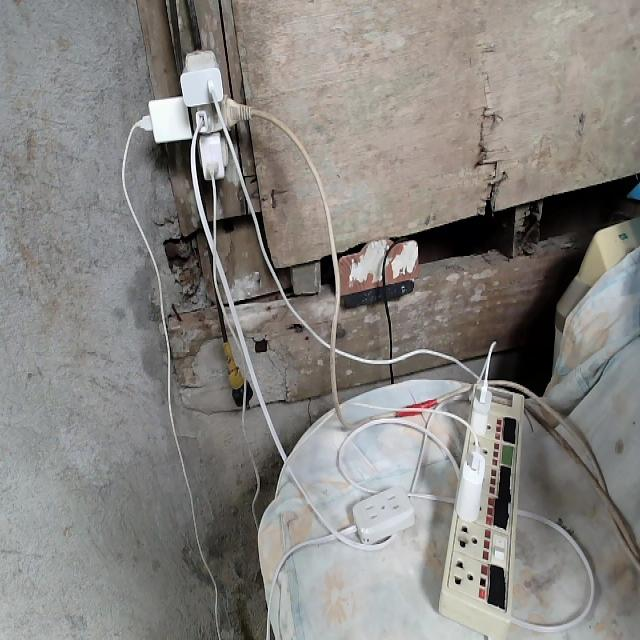-: (145, 48, 248, 177)
